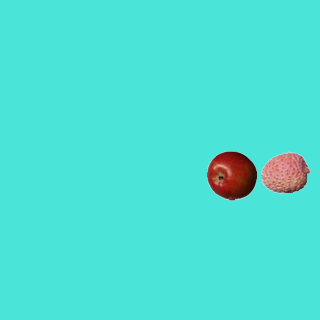Apple Braeburn: (206, 150, 256, 200)
Lychee: (260, 147, 310, 197)
